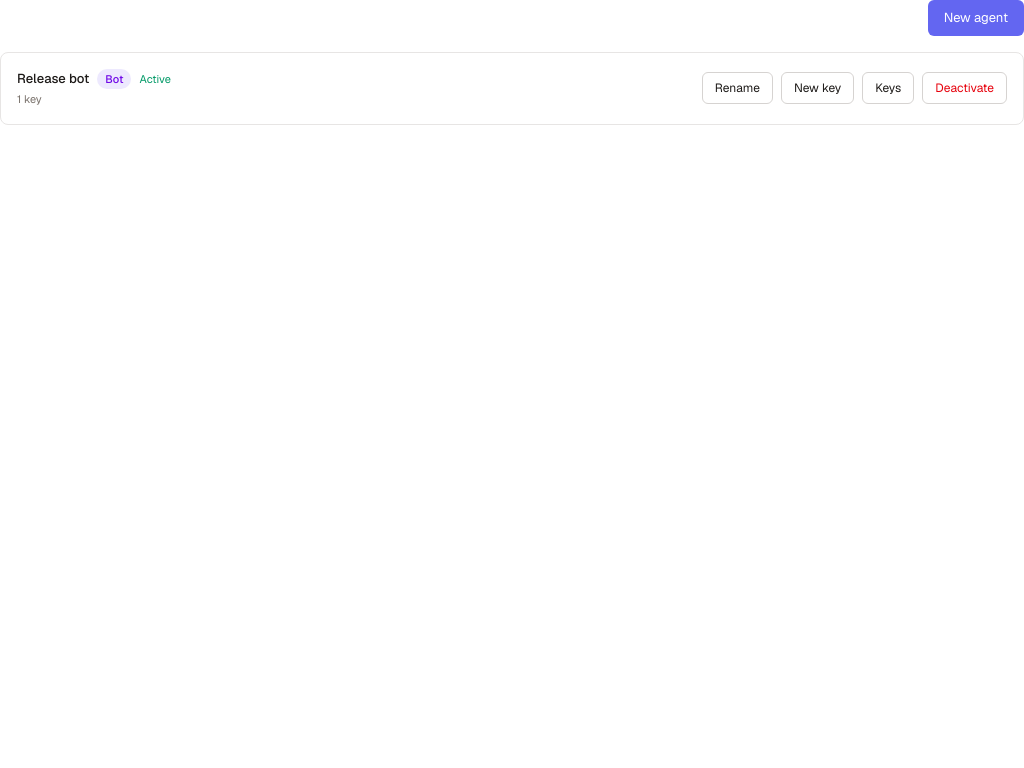
AgentList › lists keys and revokes one after confirmation
Click the button "Keys". click: (888, 88)
box: [862,72,914,104]
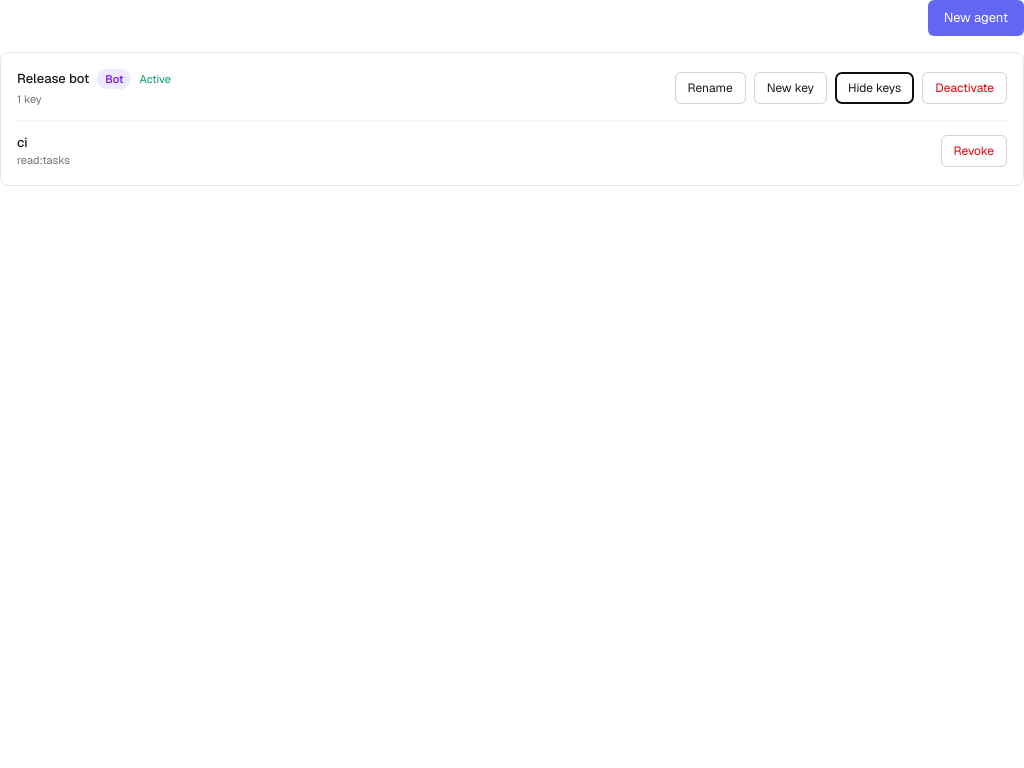
Result: the text "ci" is shown at [17,134,28,150]
Click the button "Revoke". click: (974, 150)
box: [940,134,1007,166]
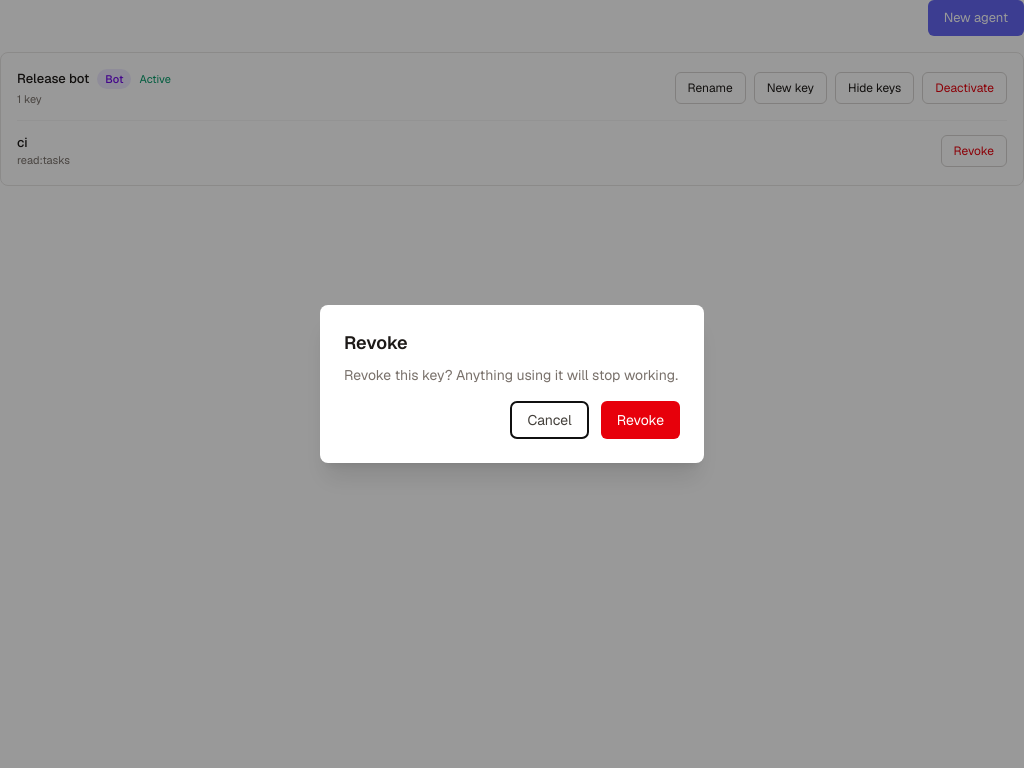
Click the button "Revoke". click: (640, 420)
box: [601,401,680,439]
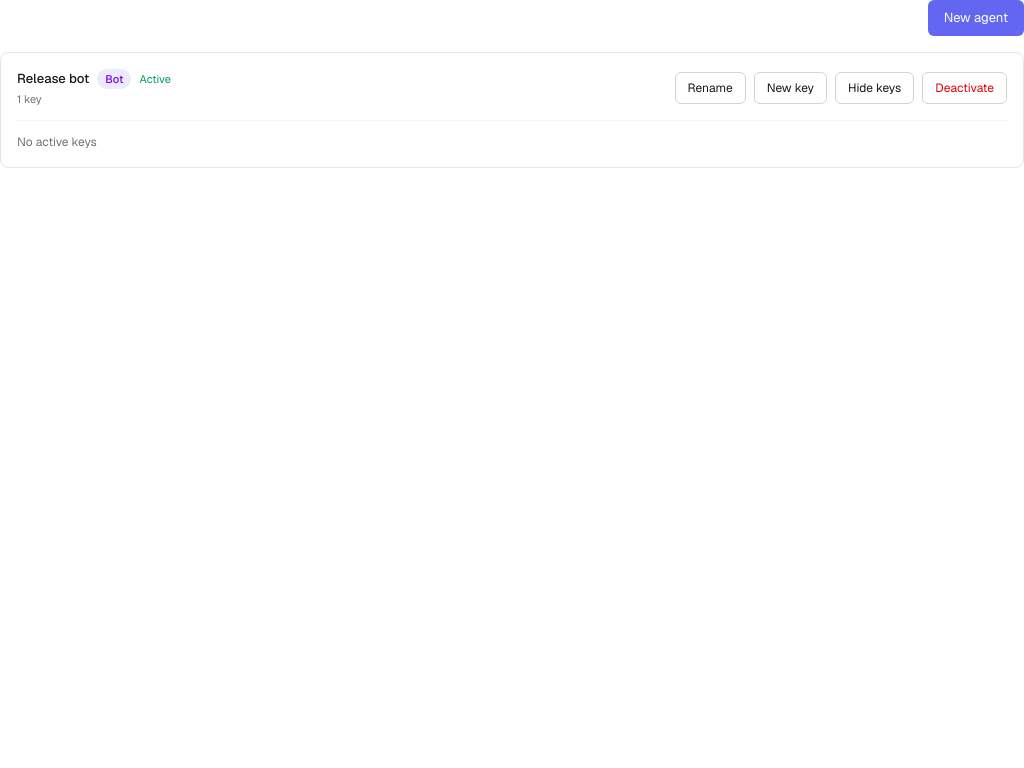
Result: the text "No active keys" is shown at [17,134,97,150]
